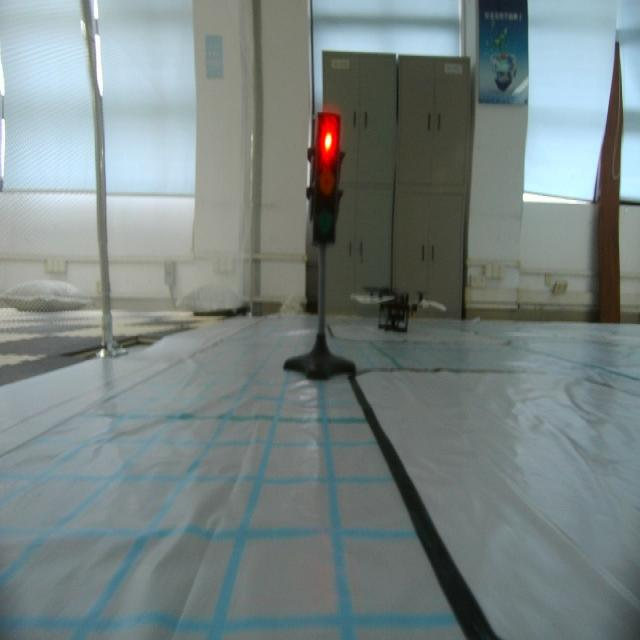red: (308, 109, 346, 258)
